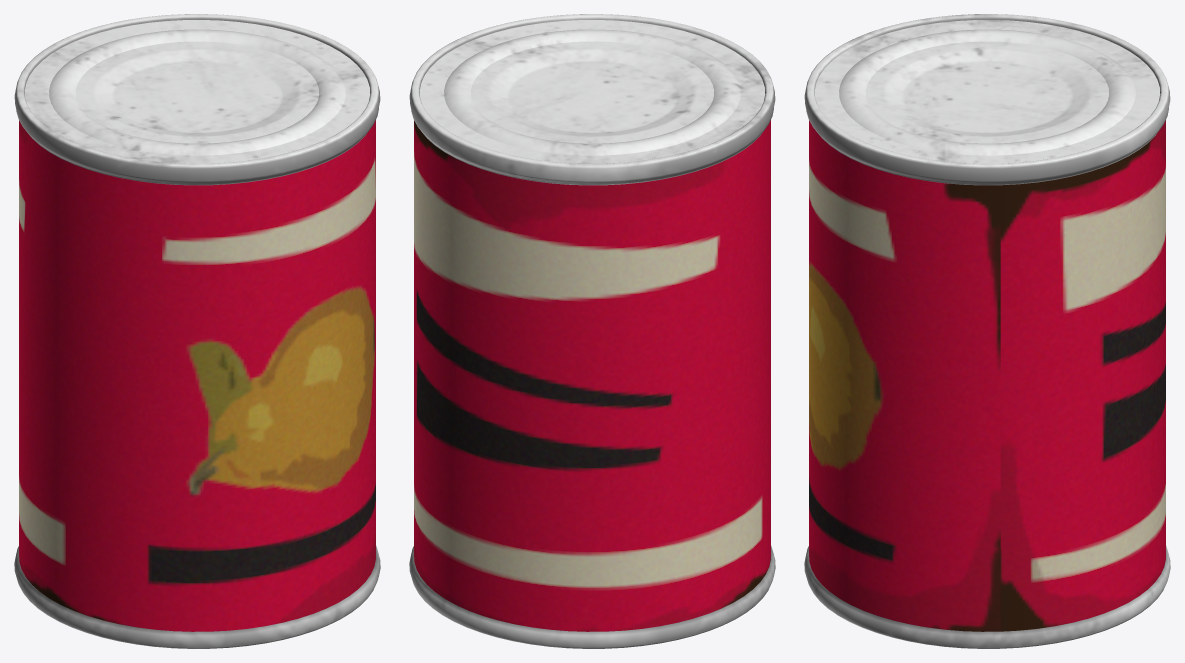
File: SM_FoodCan06.fbx
3 views of the same model, side by side, from view 1: azimuth 30°, elevation 25°; view 2: azimuth 150°, elevation 25°; view 3: azimuth 270°, elevation 25° (orthographic).
Parts seen in each view (by area): view 1: SM_FoodCan06_LOD0; view 2: SM_FoodCan06_LOD0; view 3: SM_FoodCan06_LOD0.
Boxes of the visible parts, left/top/right/bottom form: SM_FoodCan06_LOD0: left=14, top=14, right=380, bottom=648; SM_FoodCan06_LOD0: left=409, top=14, right=775, bottom=648; SM_FoodCan06_LOD0: left=804, top=14, right=1170, bottom=648.
Size of the model in its own units: 10.33 by 10.33 by 15.16.
1 material, 1 textured.
